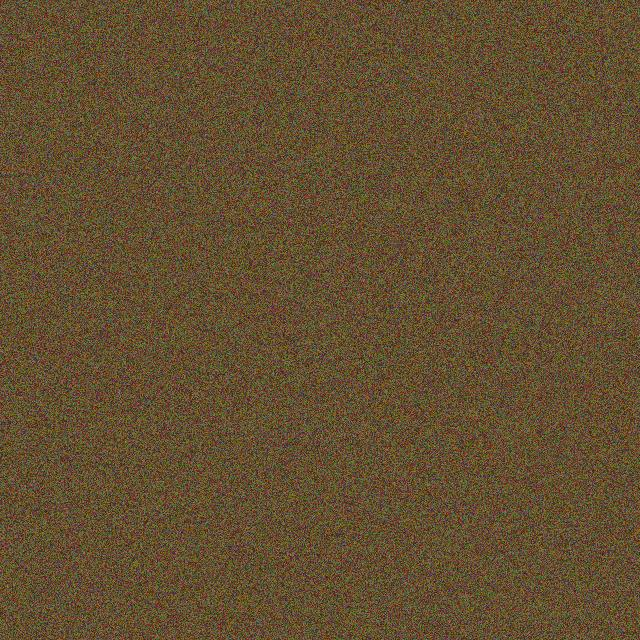ghost_net: (388, 206, 440, 262)
